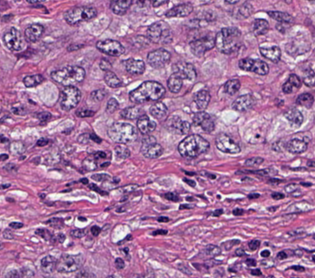nucleus: (129, 81, 164, 103), (178, 134, 208, 158), (215, 27, 241, 53), (51, 66, 84, 86), (108, 122, 137, 144), (64, 6, 96, 24), (189, 34, 214, 56), (147, 21, 171, 43), (59, 86, 81, 110), (238, 58, 268, 75), (140, 135, 162, 158), (215, 133, 240, 153), (286, 133, 309, 153), (96, 39, 123, 56), (193, 111, 214, 132), (286, 36, 309, 55), (147, 48, 170, 67), (173, 62, 196, 80), (165, 2, 192, 16), (169, 116, 190, 134), (232, 94, 254, 111), (24, 23, 43, 42), (137, 114, 155, 134), (193, 90, 210, 111), (282, 74, 300, 93), (232, 1, 252, 18), (149, 102, 167, 120), (284, 108, 303, 125), (260, 46, 280, 62), (124, 58, 144, 74), (267, 11, 293, 23), (110, 0, 132, 14), (167, 72, 182, 92), (120, 106, 143, 119), (104, 71, 121, 87), (23, 74, 43, 87), (252, 19, 268, 35), (224, 79, 240, 94), (82, 155, 98, 170), (296, 93, 313, 107), (114, 144, 130, 158), (303, 69, 314, 86), (35, 229, 52, 240), (91, 89, 106, 101), (222, 239, 239, 249), (106, 98, 118, 112), (245, 157, 263, 166), (253, 168, 276, 175), (89, 184, 105, 194), (47, 218, 63, 228), (99, 58, 111, 71), (76, 109, 94, 117), (37, 111, 50, 122), (120, 184, 137, 192), (164, 192, 178, 201), (248, 239, 259, 250), (89, 133, 101, 143), (70, 229, 85, 237), (92, 174, 108, 181), (285, 183, 297, 192), (288, 230, 305, 236), (183, 178, 194, 186), (67, 44, 81, 50), (36, 138, 48, 145), (271, 192, 283, 199), (91, 226, 100, 235), (151, 1, 167, 6), (152, 229, 166, 234), (56, 234, 64, 242), (233, 208, 242, 215), (213, 209, 222, 215), (248, 193, 258, 198), (157, 217, 168, 221), (81, 178, 87, 184), (180, 205, 190, 208)
